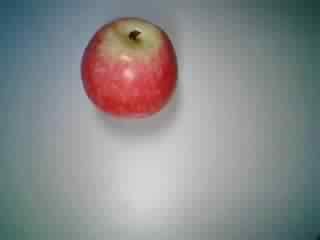apple: (78, 16, 183, 118)
